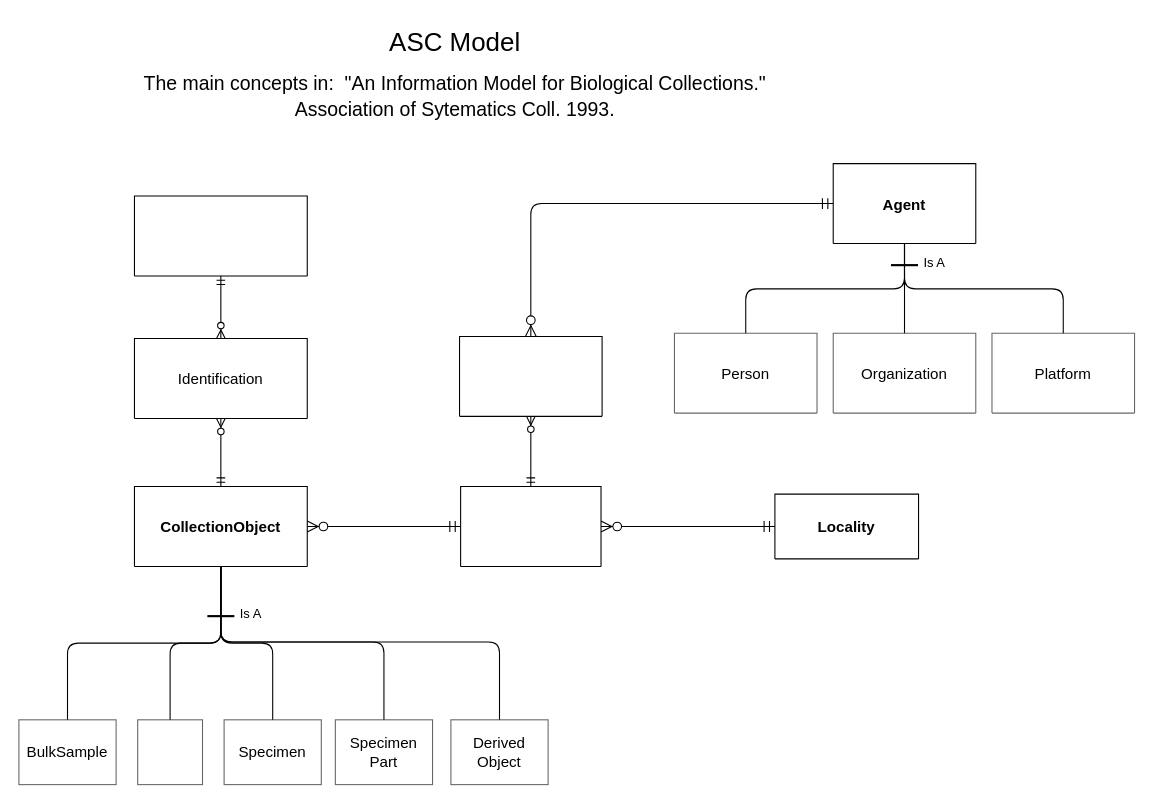
Some shapes in this 1153 by 804 pixel diagram are drawn without their labels. The box of each missing label's shape, as (x1, y1, x2, y2) in pixels:
CollectingEvent: (460, 485, 601, 566)
Collector: (458, 335, 602, 416)
Lot: (137, 719, 202, 785)
Taxon: (133, 195, 307, 276)
